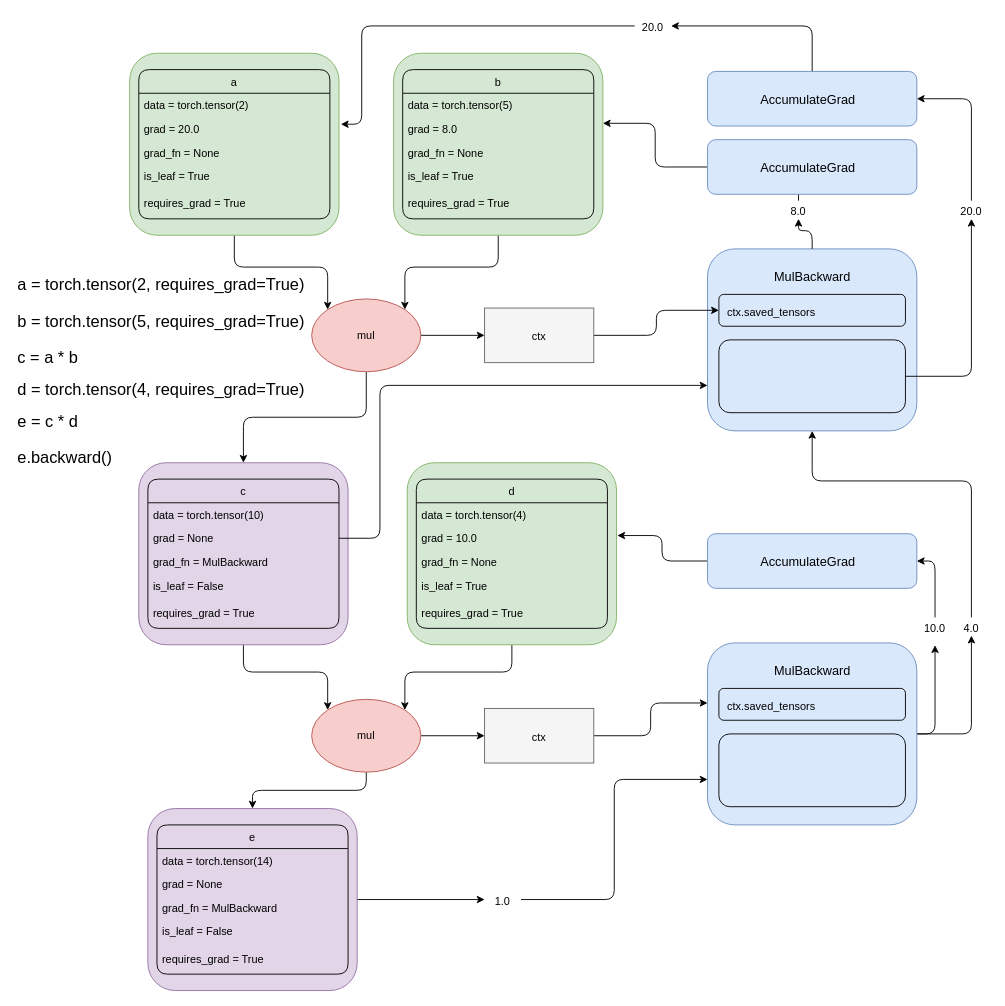
This 1005x1006 diagram has some shape labels left out. Each missing label, with the centre of its shape:
"next_functions = [ AccumulateGrad, AccumulateGrad, ]" goes at point (811, 376).
"next_functions = [ MulBackward, AccumulateGrad, ]" goes at point (811, 770).
